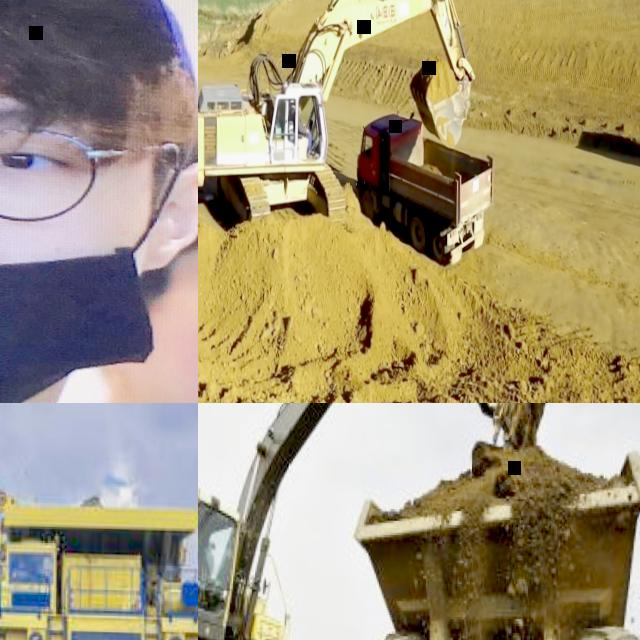Mask: (0, 174, 183, 403)
NO-Hardhat: (0, 0, 192, 151), (188, 80, 198, 248), (298, 104, 300, 110)
NO-Mask: (118, 323, 198, 403)
NO-Safety Vest: (292, 113, 304, 135)
Person: (0, 0, 195, 403), (45, 72, 198, 403), (296, 103, 314, 157)
vehicle: (198, 403, 555, 640), (198, 0, 475, 230), (350, 440, 640, 640), (0, 487, 198, 640), (354, 107, 495, 267)
